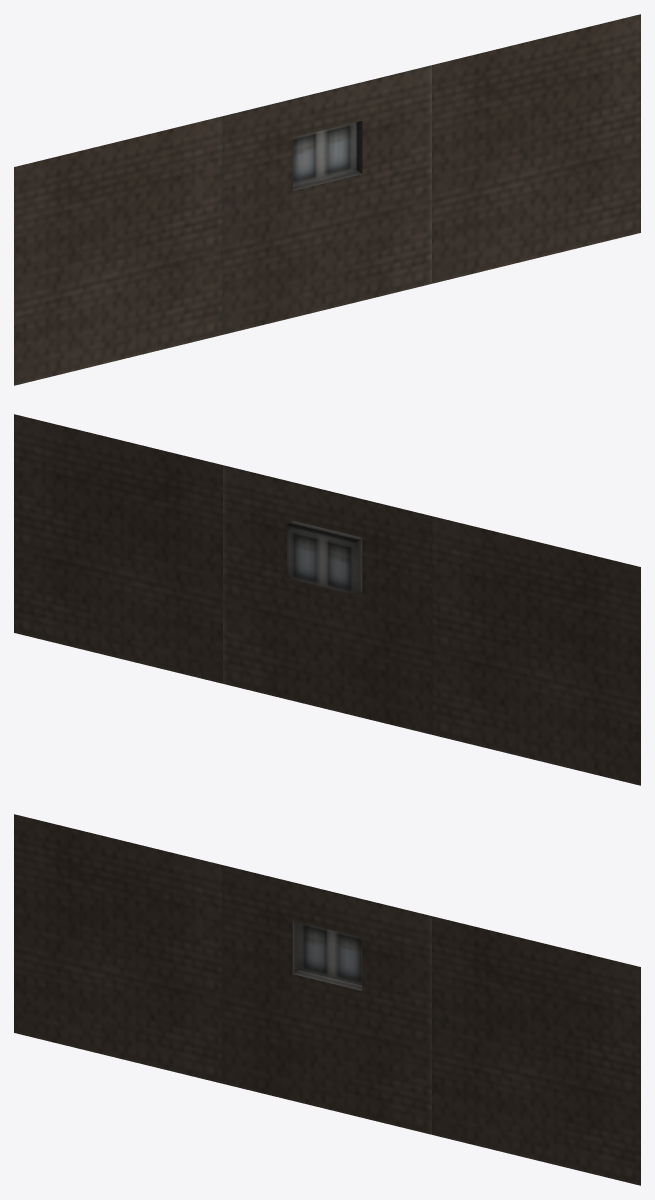
Rendered from B3_BricksWall3X.FBX.
3 views of the same model, one above another, from view 1: azimuth 30°, elevation 25°; view 2: azimuth 150°, elevation 25°; view 3: azimuth 330°, elevation 25° (orthographic).
Parts seen in each view (by area): view 1: B3_BricksWall3X; view 2: B3_BricksWall3X; view 3: B3_BricksWall3X.
Boxes of the visible parts, x1,y1,x2,y2 form: B3_BricksWall3X: (14,14,640,385); B3_BricksWall3X: (14,414,640,785); B3_BricksWall3X: (14,814,640,1185).
Size of the model in its own units: 12 by 4 by 0.1837.
